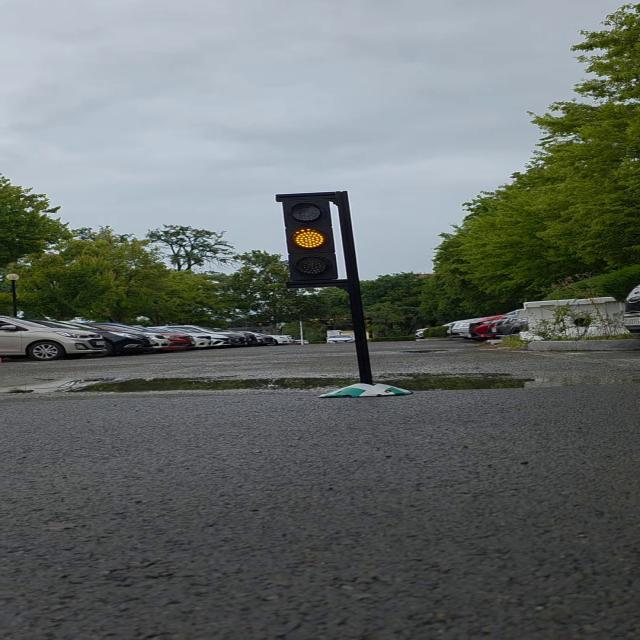yellow: (276, 196, 351, 284)
